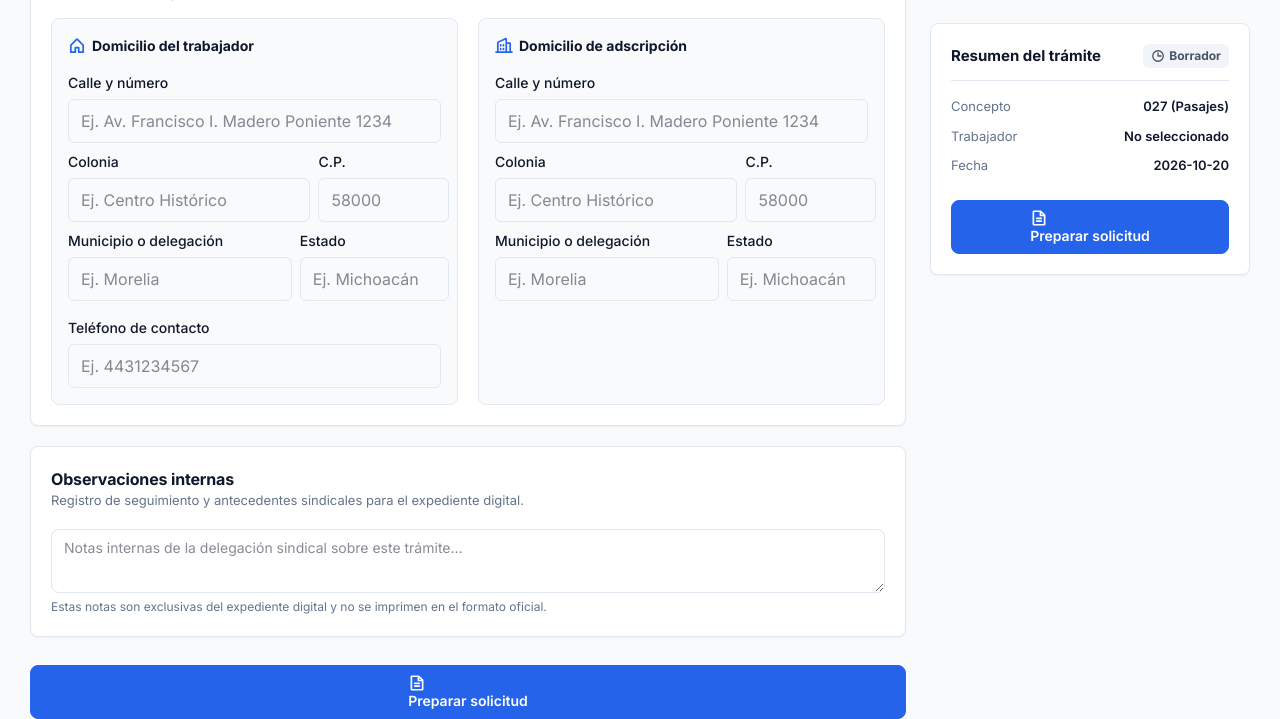
it: PassageWizard UI Workflow & Interactions › valida campos obligatorios y muestra banner accesible de faltantes
The image size is (1280, 719).
(page scrolled)
// Intentar preparar sin trabajador ni datos
Step 1. Click the button "Preparar solicitud" below "Observaciones internas" → (468, 692), box [30, 664, 906, 718]
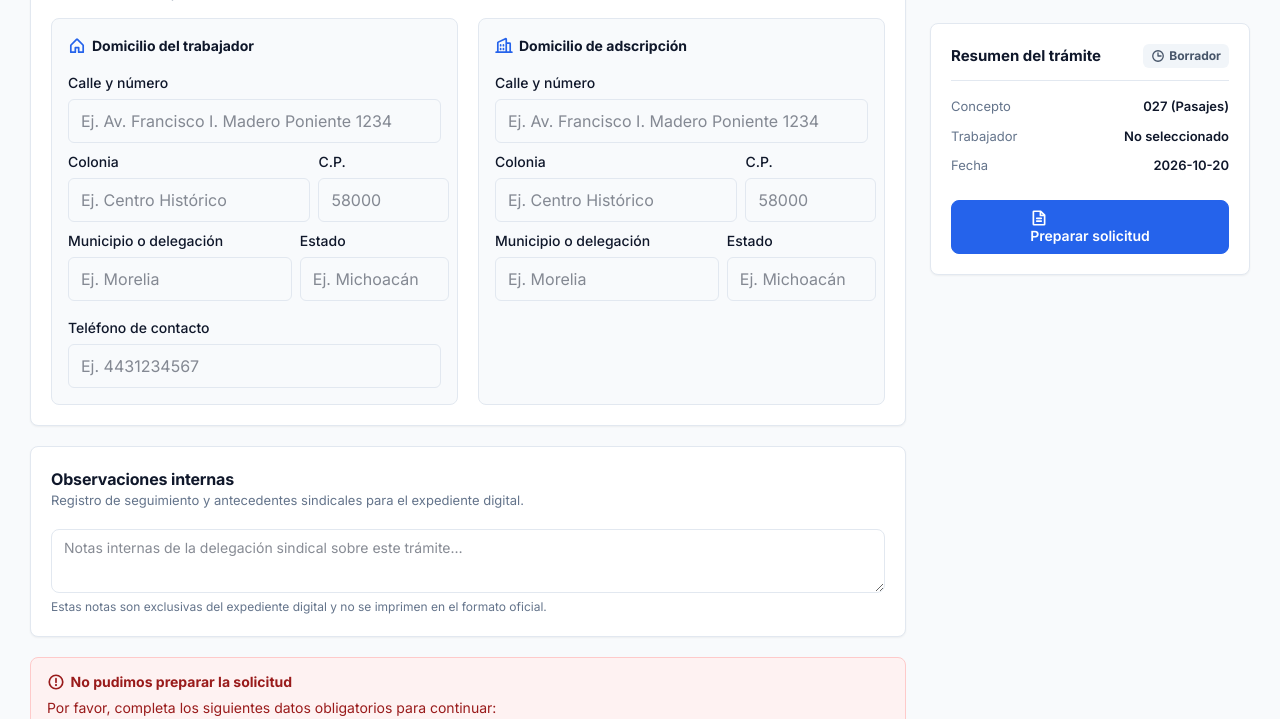
Now the text "No pudimos preparar la solicitud" is shown, box [47, 672, 292, 691]
